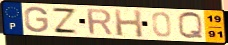0: (151, 11, 173, 38)
G: (23, 6, 50, 34)
H: (112, 8, 145, 39)
Q: (176, 11, 205, 40)
R: (85, 8, 115, 36)
Z: (50, 6, 80, 35)
